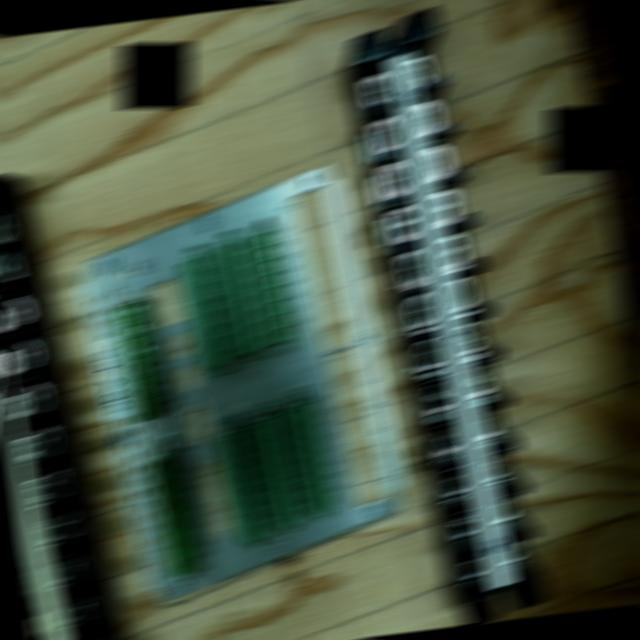Phillips_Block: (349, 8, 554, 624)
Terminal_1: (144, 453, 204, 577), (110, 300, 167, 422)
Terminal_2: (215, 428, 272, 545), (178, 253, 234, 369), (250, 414, 305, 530), (212, 239, 266, 355), (285, 400, 338, 516)
